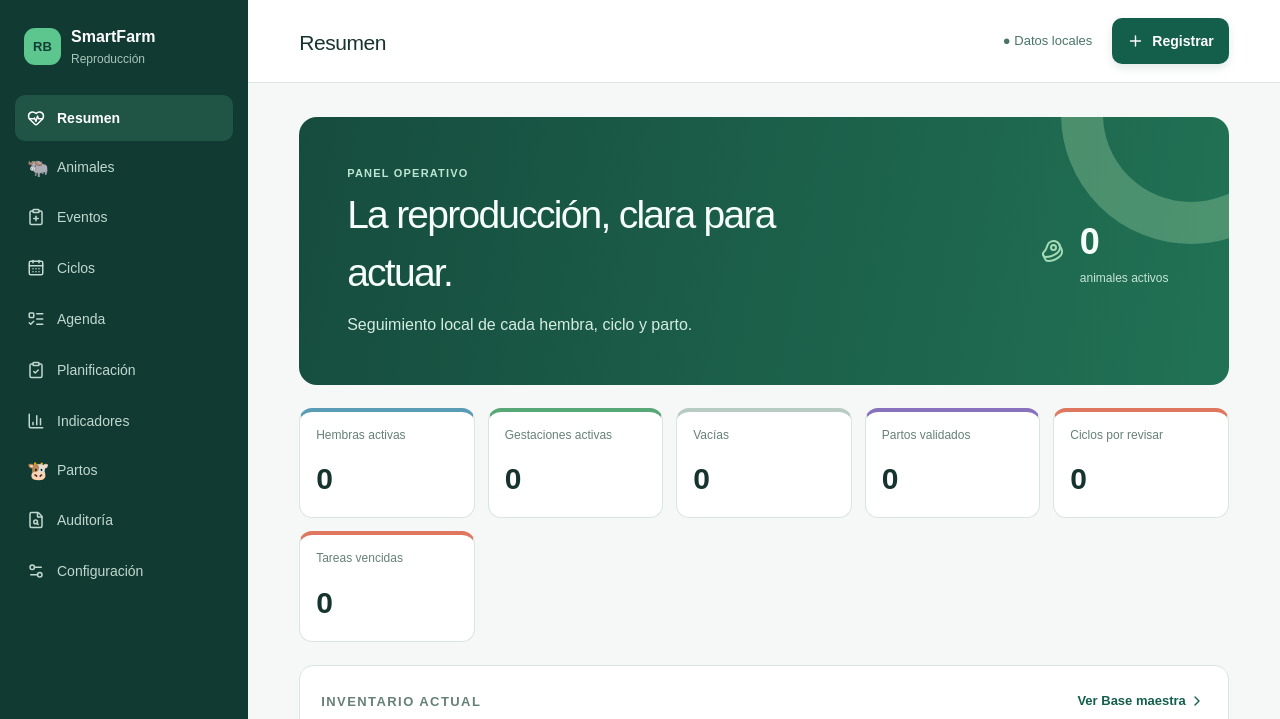
Test case: planificación en interfaz › muestra la programación y filtros de tareas
Click the button "Planificación": (124, 370) [15,347,233,393]
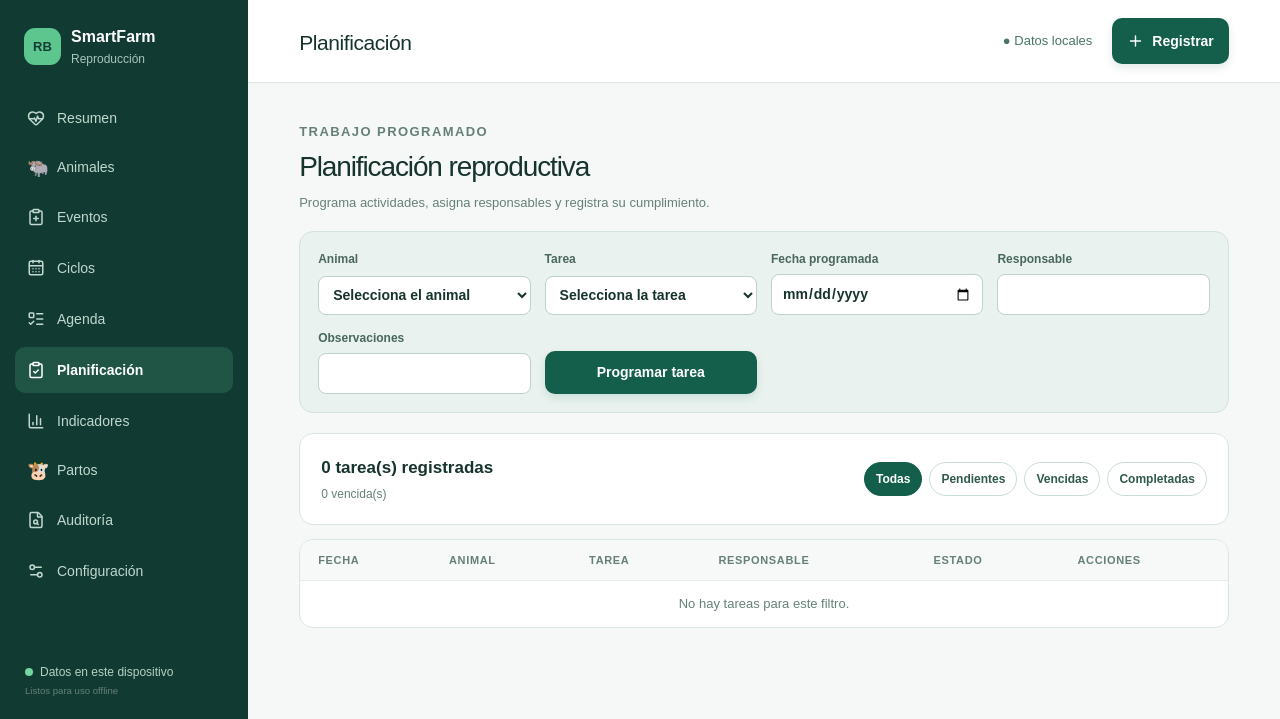
Check: the heading "Planificación reproductiva" is shown, box [299,150,589,182]
Check: the date field labelled "Fecha programada" is shown, box [771,274,983,315]
Check: the field labelled "Responsable" is shown, box [997,274,1210,315]
